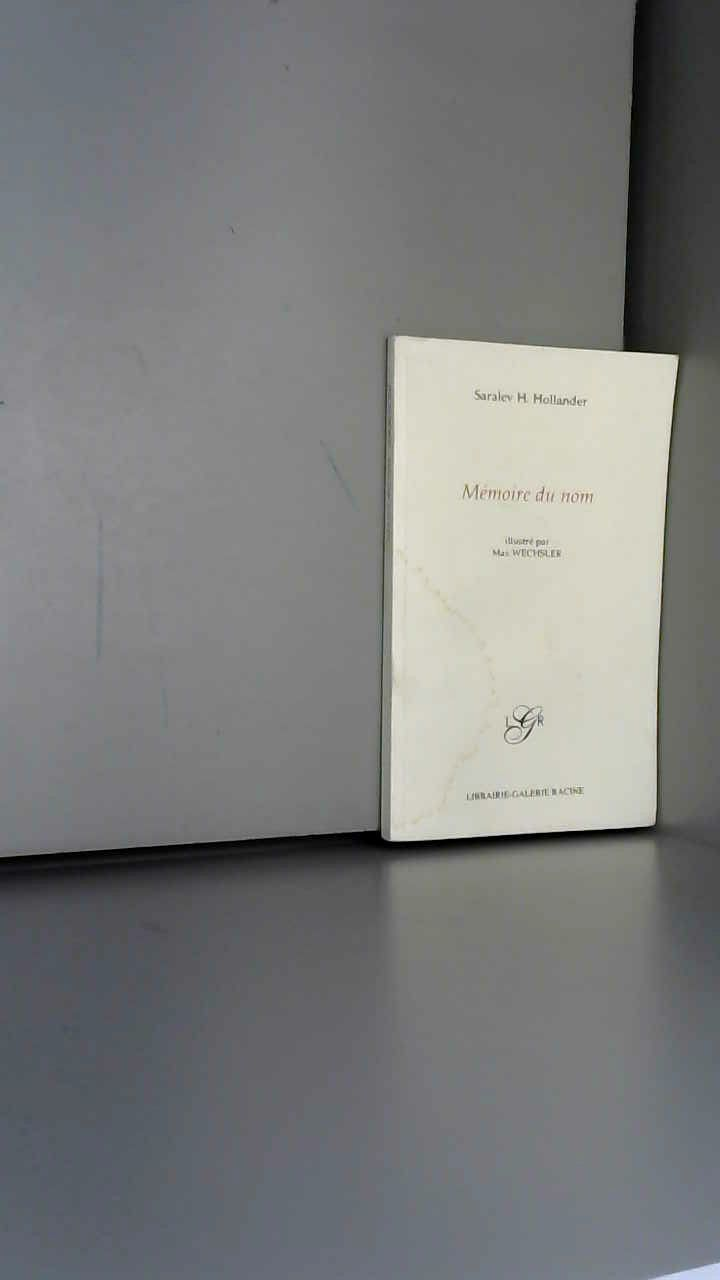book: (360, 300, 715, 906)
